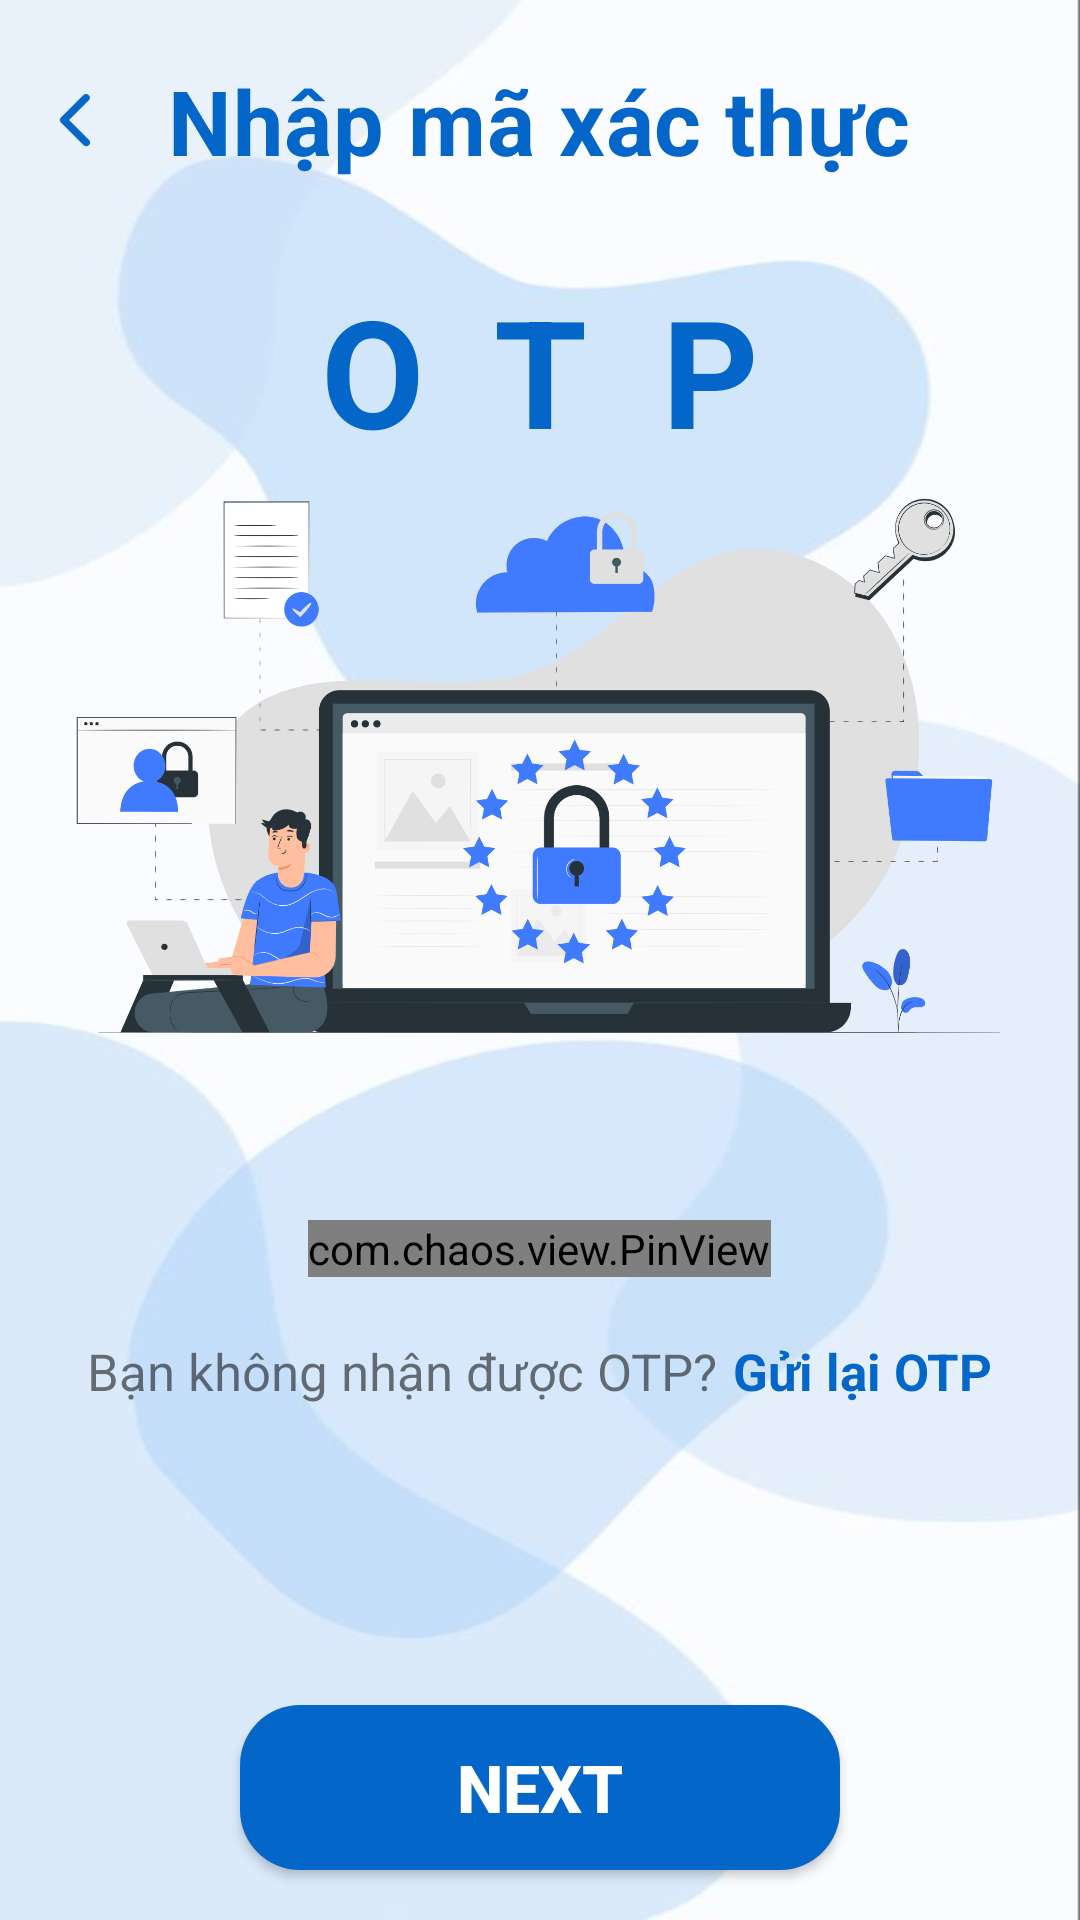

Where icons sit on this 1080 x 1920 app screen, as (x1, y1, x2, y2):
back nhi: (59, 94, 91, 147)
